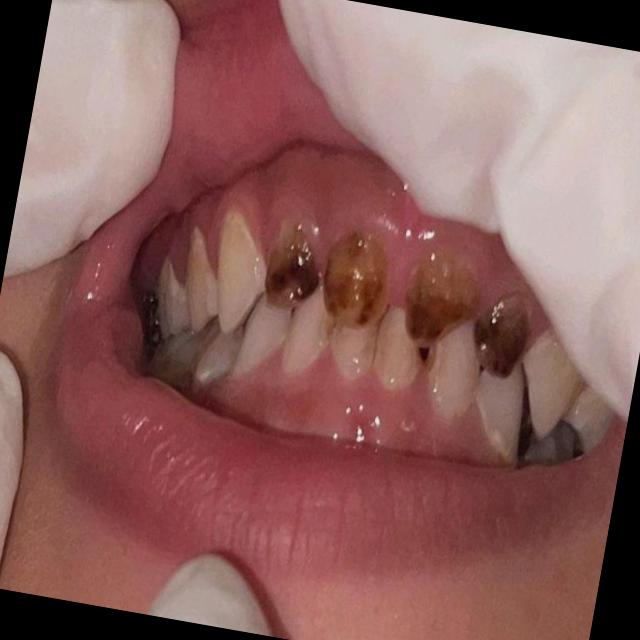caries: (398, 250, 486, 354), (314, 228, 398, 332), (258, 220, 328, 308), (468, 292, 534, 383)
